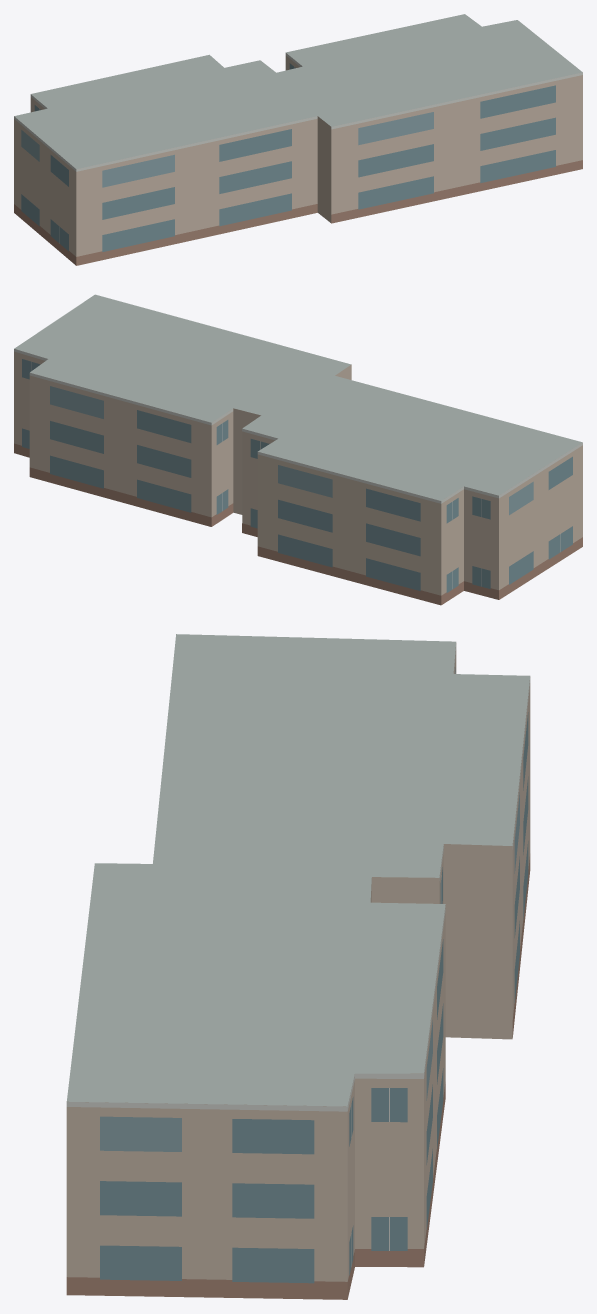
File: survey-upis-33021921.glb
3 views of the same model, one above another, from view 1: azimuth 30°, elevation 25°; view 2: azimuth 150°, elevation 25°; view 3: azimuth 270°, elevation 25° (orthographic). The views are drawn at different scales.
Visible parts, largest first — view 1: survey-upis-33021921.tmp; view 2: survey-upis-33021921.tmp; view 3: survey-upis-33021921.tmp.
Boxes of the visible parts, bbox=[...] form: survey-upis-33021921.tmp: bbox=[14, 14, 582, 265]; survey-upis-33021921.tmp: bbox=[14, 294, 582, 605]; survey-upis-33021921.tmp: bbox=[66, 634, 530, 1299].
Bounding box in the file's own units: 47.95 × 9.15 × 19.89.
